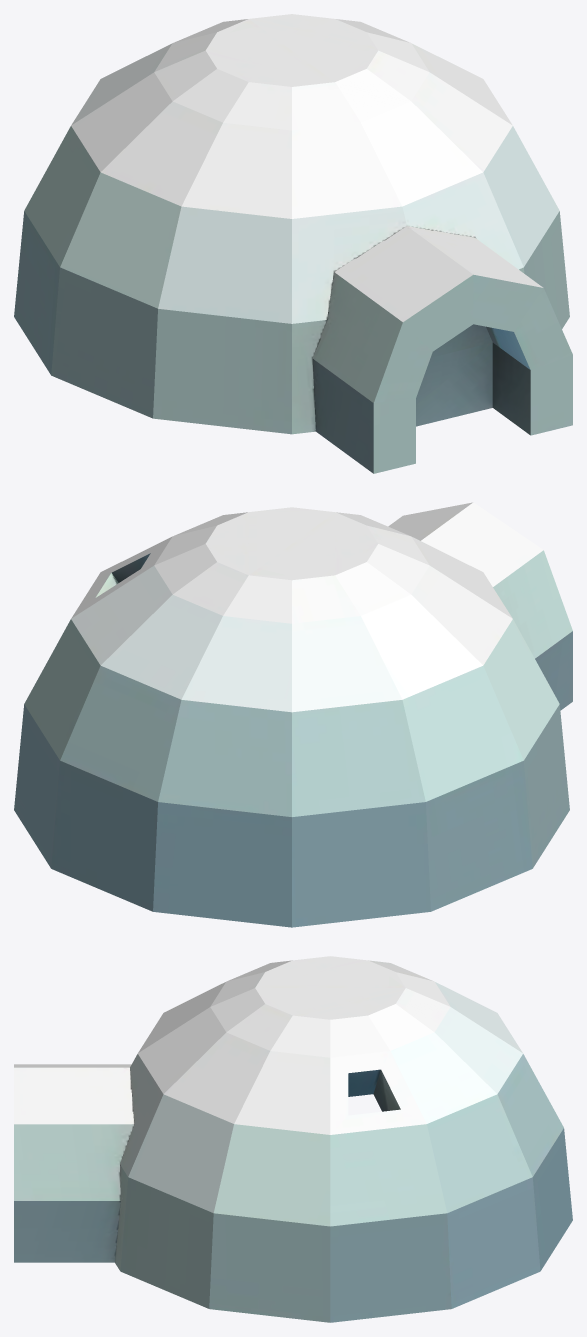
File: 6k656rJhVzY.glb
The picture shows the model from 3 angles, top to bottom: view 1: azimuth 30°, elevation 25°; view 2: azimuth 150°, elevation 25°; view 3: azimuth 270°, elevation 25°; orthographic projection. The views are drawn at different scales.
Parts seen in each view (by area): view 1: igloo; view 2: igloo; view 3: igloo.
Boxes of the visible parts, x1,y1,x2,y2 form: igloo: [14, 14, 572, 473]; igloo: [14, 502, 572, 927]; igloo: [14, 956, 572, 1322].
Bounding box in the file's own units: 2 × 1.06 × 2.31.
1 material, 1 textured.
